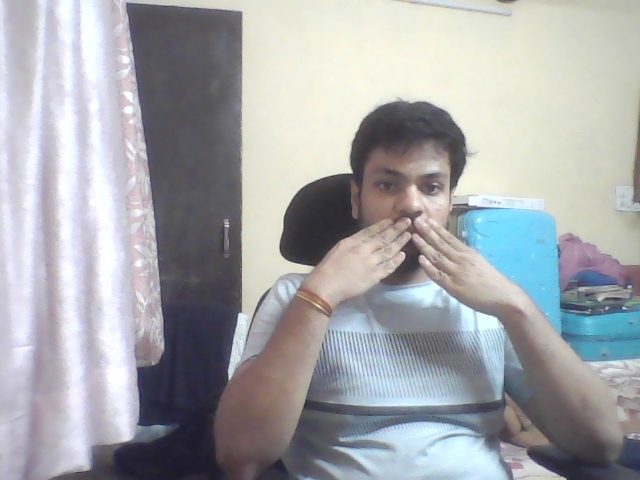Thanks: (309, 202, 548, 329)
